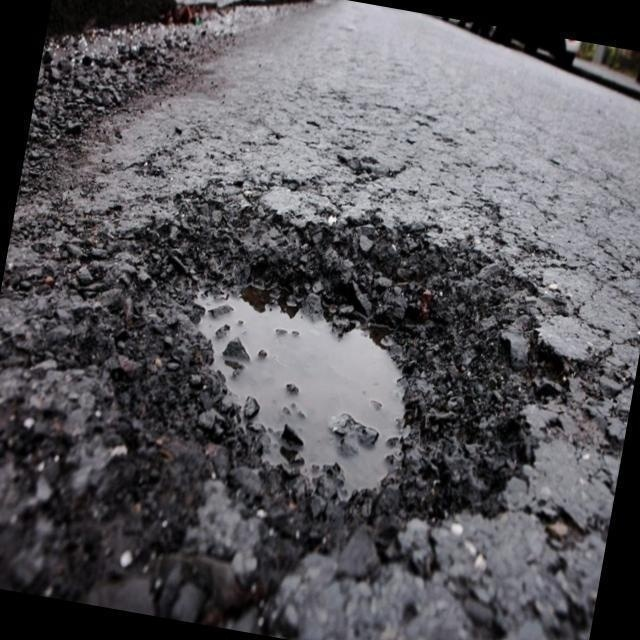pothole: (162, 228, 462, 492)
